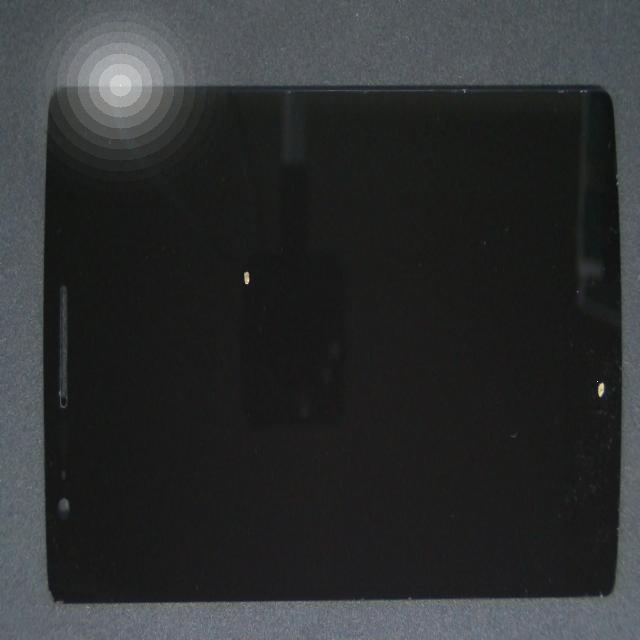stain: (315, 154, 640, 560), (128, 99, 352, 410)
